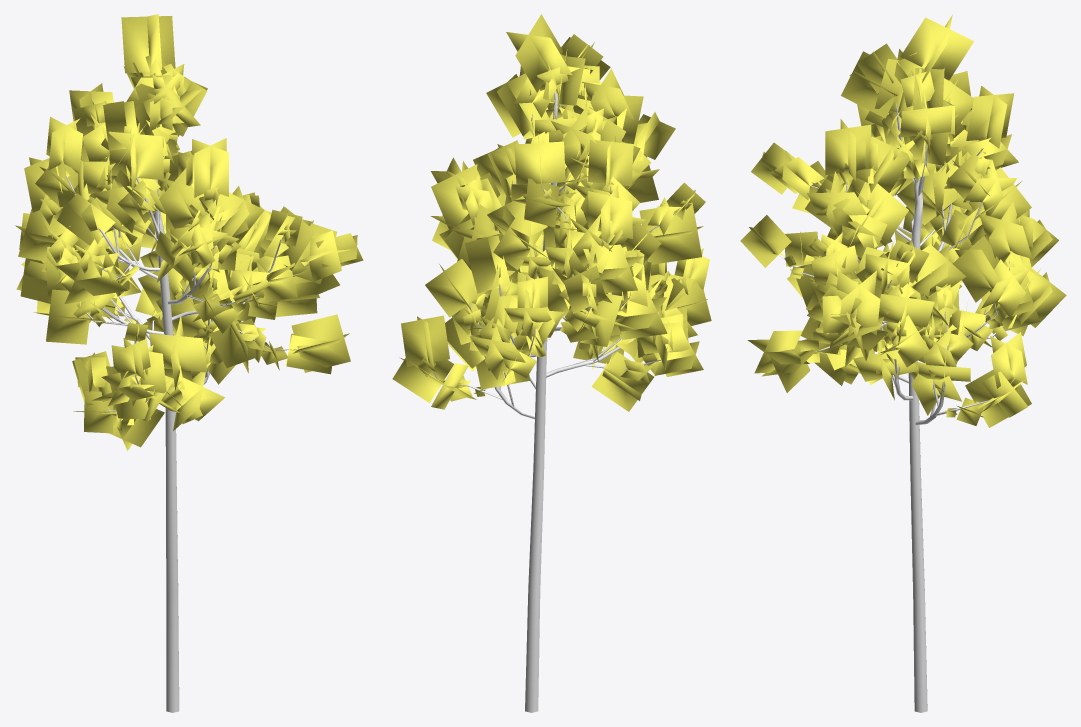
The model's file is aspen_medium_v0_lod1.glb.
3 renders of one model, left to right at view 1: azimuth 30°, elevation 25°; view 2: azimuth 150°, elevation 25°; view 3: azimuth 270°, elevation 25°, orthographic.
Visible parts, largest first — view 1: Leaves, Branches; view 2: Leaves, Branches; view 3: Leaves, Branches.
Boxes of the visible parts, box(x1,y1,x2,y2) form: Leaves: box(15, 14, 363, 450); Branches: box(54, 175, 309, 712); Leaves: box(392, 14, 711, 411); Branches: box(433, 91, 678, 712); Leaves: box(740, 14, 1066, 427); Branches: box(780, 101, 1009, 712).
Bounding box in the file's own units: 30.79 × 72.75 × 31.34.
